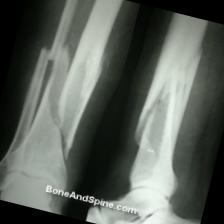spiral-fracture: (0, 0, 221, 224)
